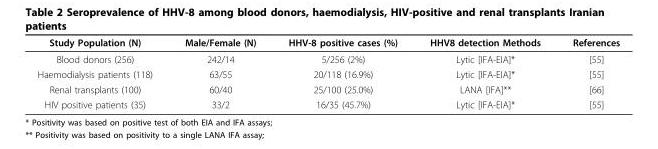table: (36, 36, 619, 109)
table column: (271, 36, 413, 109), (413, 36, 555, 109), (36, 36, 168, 109), (168, 36, 271, 109), (555, 36, 619, 109)
table column header: (36, 36, 619, 50)
table row: (36, 50, 619, 66), (36, 66, 619, 81), (36, 81, 619, 96), (36, 36, 619, 50), (36, 96, 619, 109)
